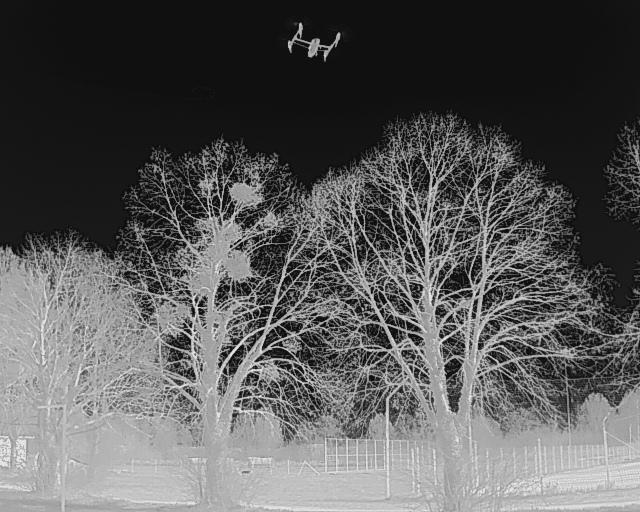drone: (274, 8, 352, 74)
